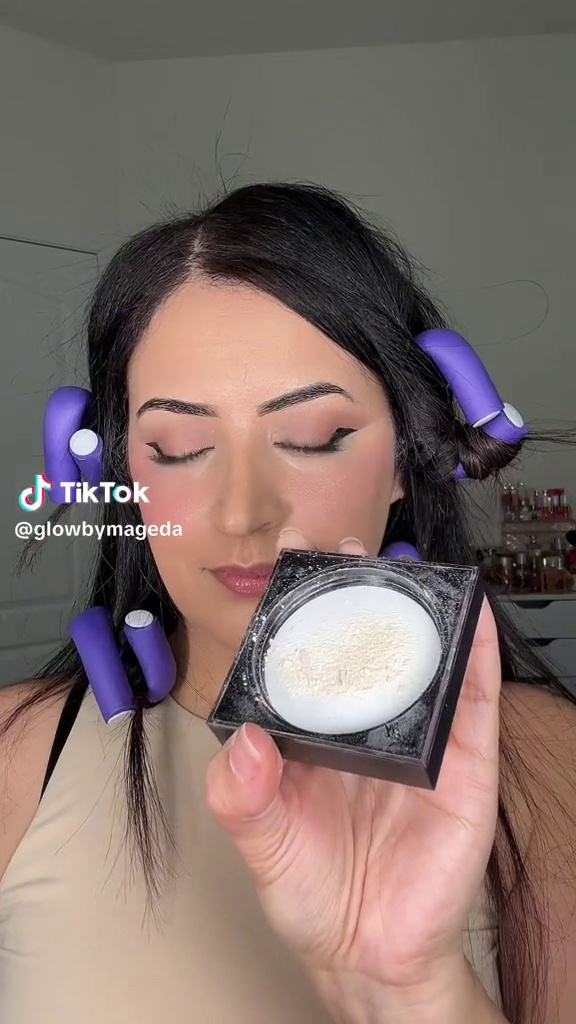train' :'yolo_data/train/images',: (190, 538, 494, 800)
